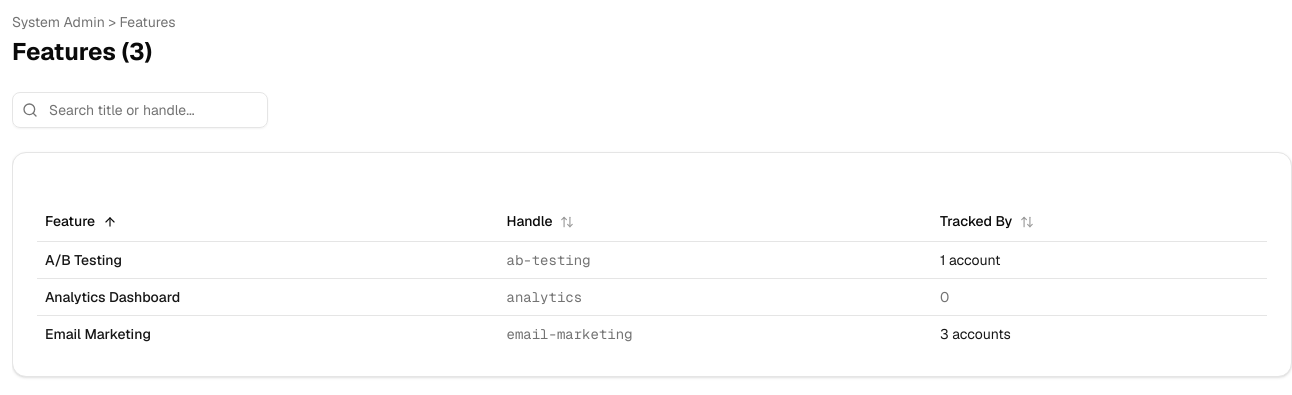
Scenario: FeaturesListPage › shows empty state when no features match
Expected: the link "Email Marketing" is shown, x1=45 y1=324 x2=151 y2=342
Type "zzzzz" into the field with placeholder "Search title or handle..." at (140, 110), box x1=12 y1=92 x2=268 y2=128
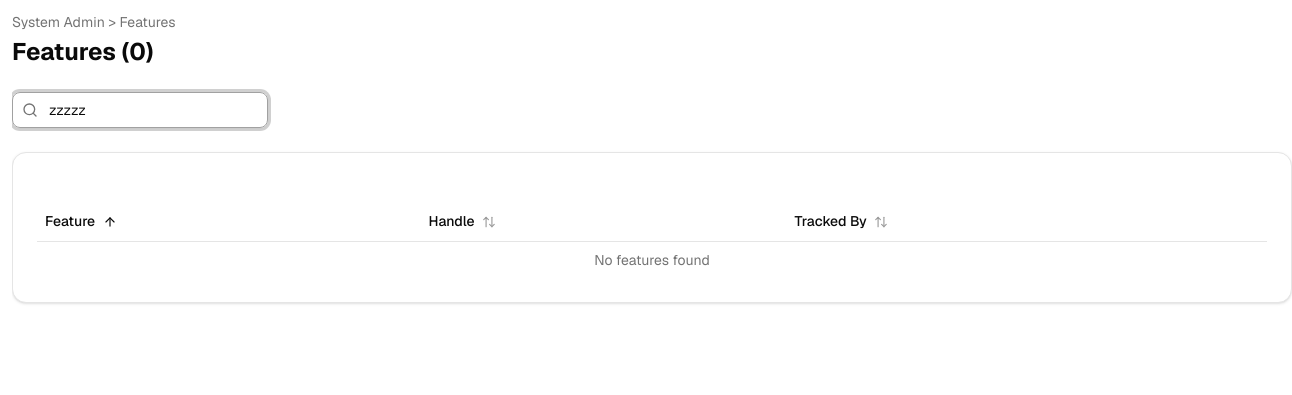
Expected: the text "No features found" is shown, x1=37 y1=241 x2=1267 y2=278
